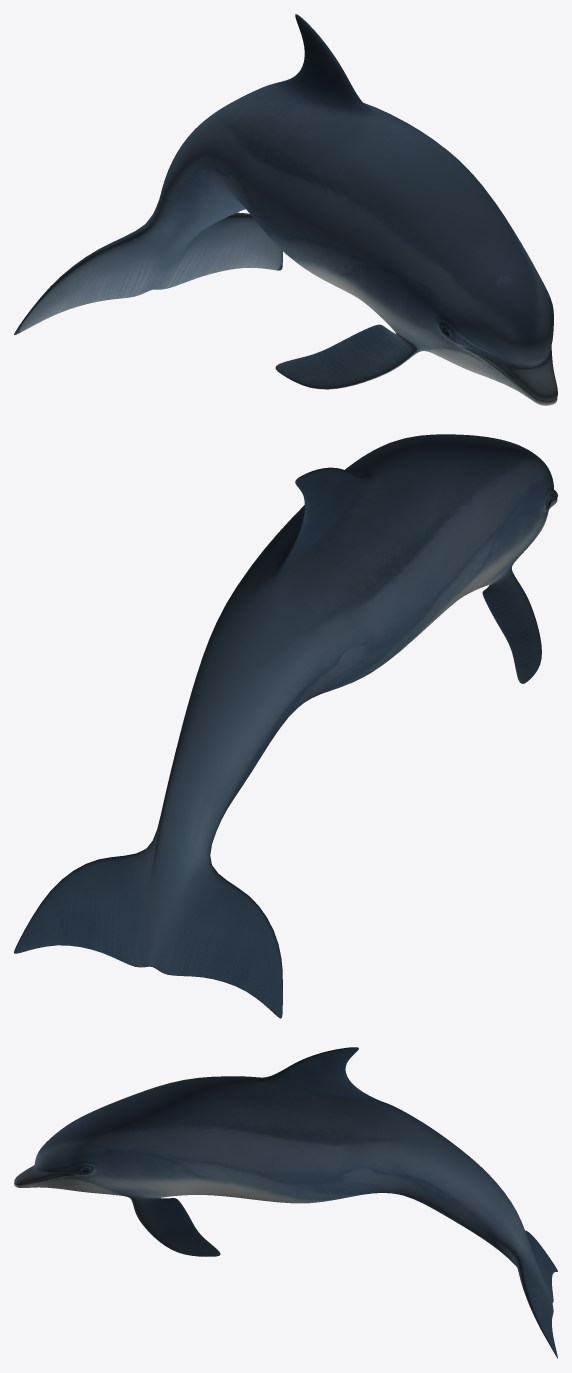
Rendered from delfin.obj.
3 renders of one model, top to bottom at view 1: azimuth 30°, elevation 25°; view 2: azimuth 150°, elevation 25°; view 3: azimuth 270°, elevation 25°, orthographic. The views are drawn at different scales.
Parts seen in each view (by area): view 1: dolphin; view 2: dolphin; view 3: dolphin.
Boxes of the visible parts, bbox=[...] form: dolphin: bbox=[14, 14, 557, 405]; dolphin: bbox=[14, 434, 557, 1018]; dolphin: bbox=[14, 1047, 557, 1358].
Size of the model in its own units: 34.23 by 48.53 by 89.35.
Materials: 1 (1 with a texture image).
